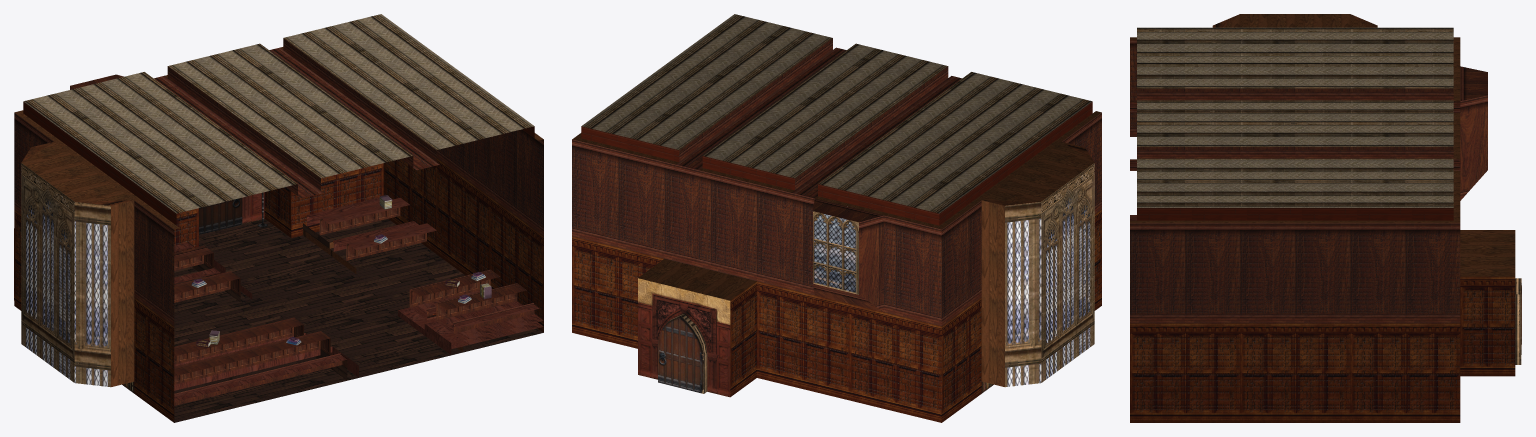
Rendered from ClaseHechizos.fbx.
3 renders of one model, left to right at view 1: azimuth 30°, elevation 25°; view 2: azimuth 150°, elevation 25°; view 3: azimuth 270°, elevation 25°, orthographic. The views are drawn at different scales.
Parts seen in each view (by area): view 1: Clase_Hechizos; view 2: Clase_Hechizos; view 3: Clase_Hechizos.
Part boxes in pixels (left/top/right/bottom): Clase_Hechizos: left=14, top=14, right=543, bottom=422; Clase_Hechizos: left=572, top=14, right=1101, bottom=422; Clase_Hechizos: left=1130, top=14, right=1521, bottom=422.
Bounding box in the file's own units: 1152 × 544 × 911.
